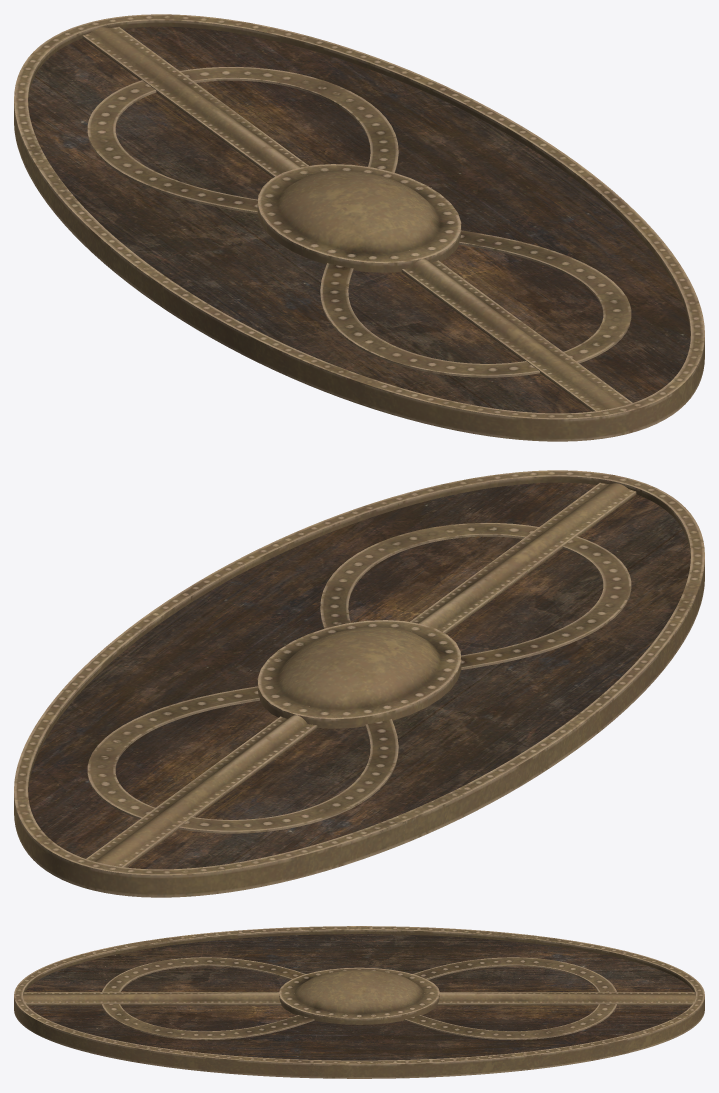
File: dunland_wulf_shield_medium_f.fbx
3 renders of one model, top to bottom at view 1: azimuth 30°, elevation 25°; view 2: azimuth 150°, elevation 25°; view 3: azimuth 270°, elevation 25°, orthographic. The views are drawn at different scales.
Visible parts, largest first — view 1: dunland_wulf_shield_medium_f; view 2: dunland_wulf_shield_medium_f; view 3: dunland_wulf_shield_medium_f.
Part boxes in pixels (box(x1,y1,x2,y2)): dunland_wulf_shield_medium_f: box(14, 14, 704, 441); dunland_wulf_shield_medium_f: box(14, 470, 704, 897); dunland_wulf_shield_medium_f: box(14, 926, 704, 1078).
Bounding box in the file's own units: 0.7189 × 1.52 × 0.0806.
1 material, 1 textured.
